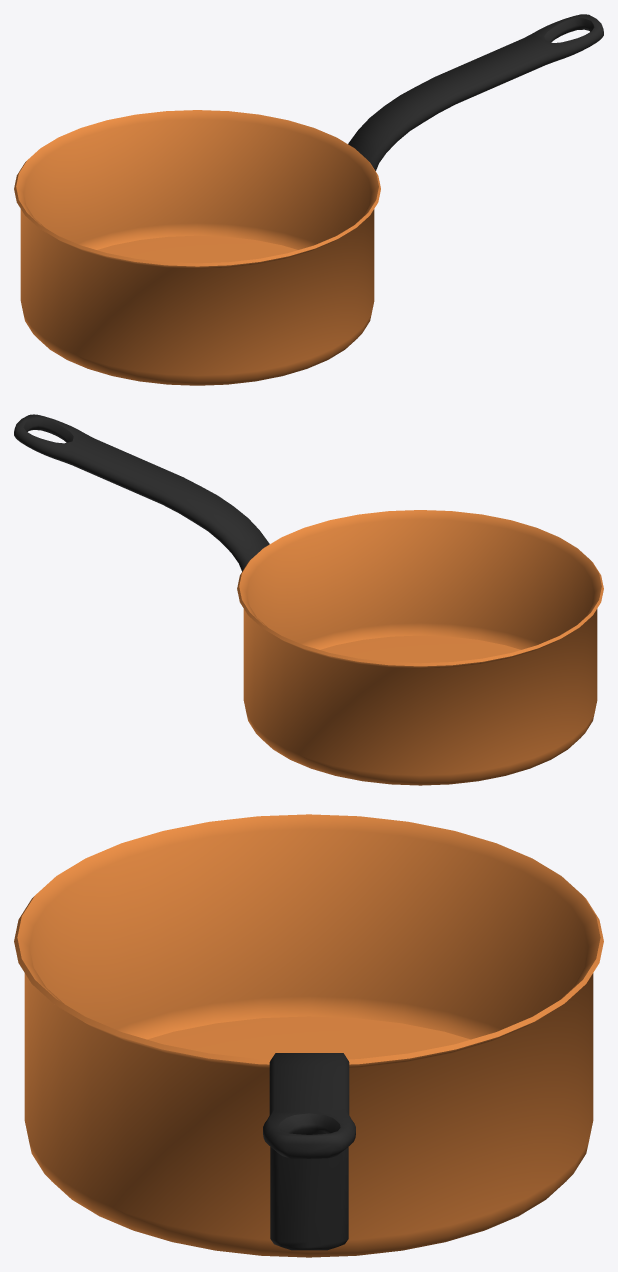
Rendered from PanHat.fbx.
3 renders of one model, top to bottom at view 1: azimuth 30°, elevation 25°; view 2: azimuth 150°, elevation 25°; view 3: azimuth 270°, elevation 25°, orthographic. The views are drawn at different scales.
Visible parts, largest first — view 1: Pan3; view 2: Pan3; view 3: Pan3.
Part boxes in pixels (x1=…): Pan3: x1=14, y1=14, x2=603, y2=385; Pan3: x1=14, y1=414, x2=603, y2=785; Pan3: x1=14, y1=814, x2=603, y2=1257.
Size of the model in its own units: 115 by 38.7 by 65.18.
